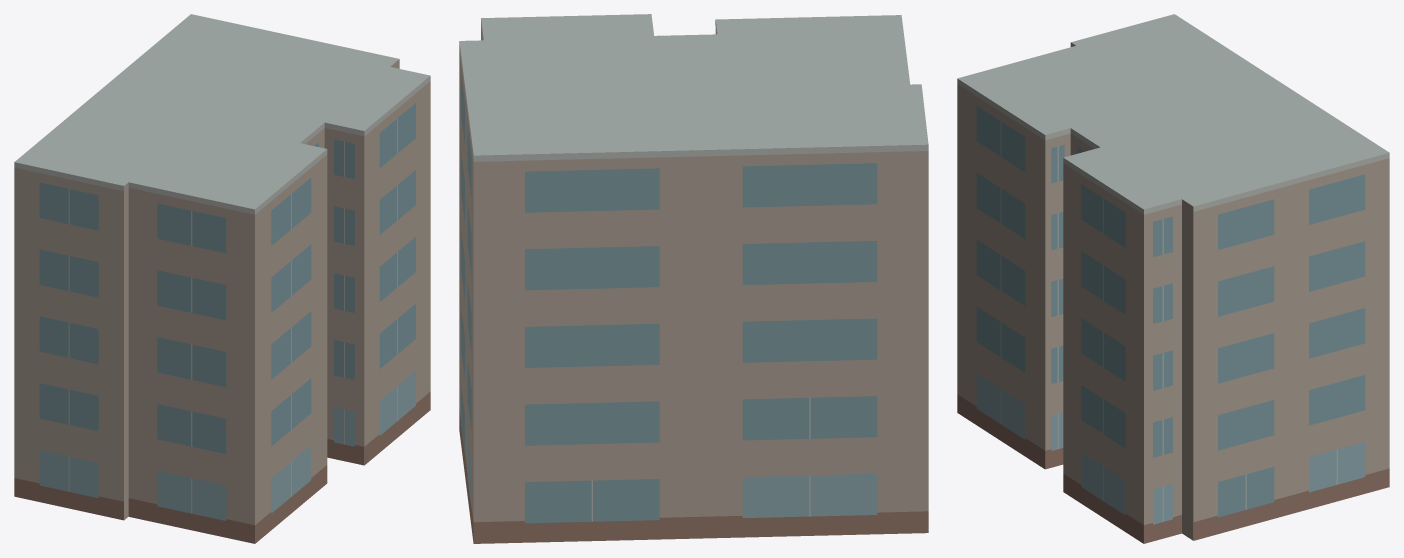
The model's file is survey-upis-32767790.glb.
3 renders of one model, left to right at view 1: azimuth 30°, elevation 25°; view 2: azimuth 150°, elevation 25°; view 3: azimuth 270°, elevation 25°, orthographic. The views are drawn at different scales.
Parts seen in each view (by area): view 1: survey-upis-32767790.tmp; view 2: survey-upis-32767790.tmp; view 3: survey-upis-32767790.tmp.
Boxes of the visible parts, bbox=[...] form: survey-upis-32767790.tmp: bbox=[14, 14, 430, 543]; survey-upis-32767790.tmp: bbox=[459, 14, 928, 543]; survey-upis-32767790.tmp: bbox=[957, 14, 1389, 543].
Size of the model in its own units: 19.14 by 15.25 by 17.89.
